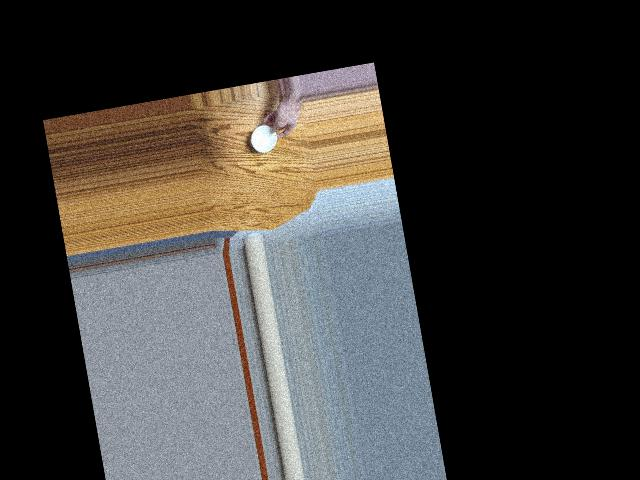cotage: (248, 121, 280, 154)
